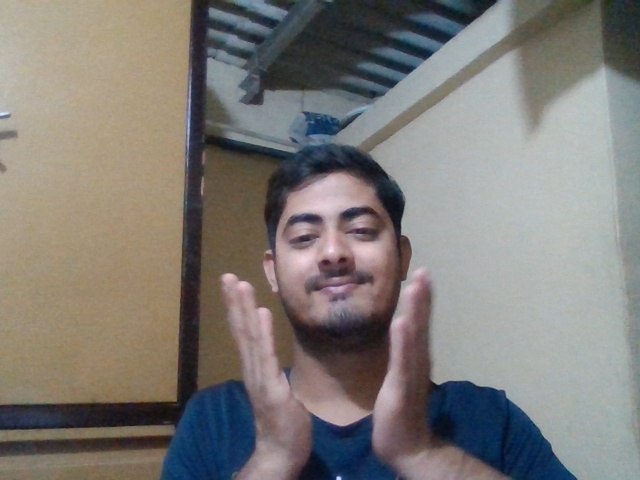ThankYou: (221, 272, 468, 458)
